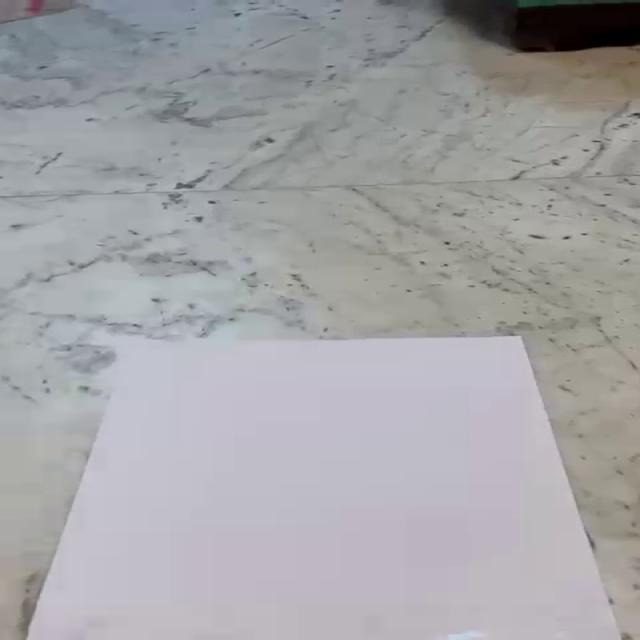road: (24, 336, 623, 640)
